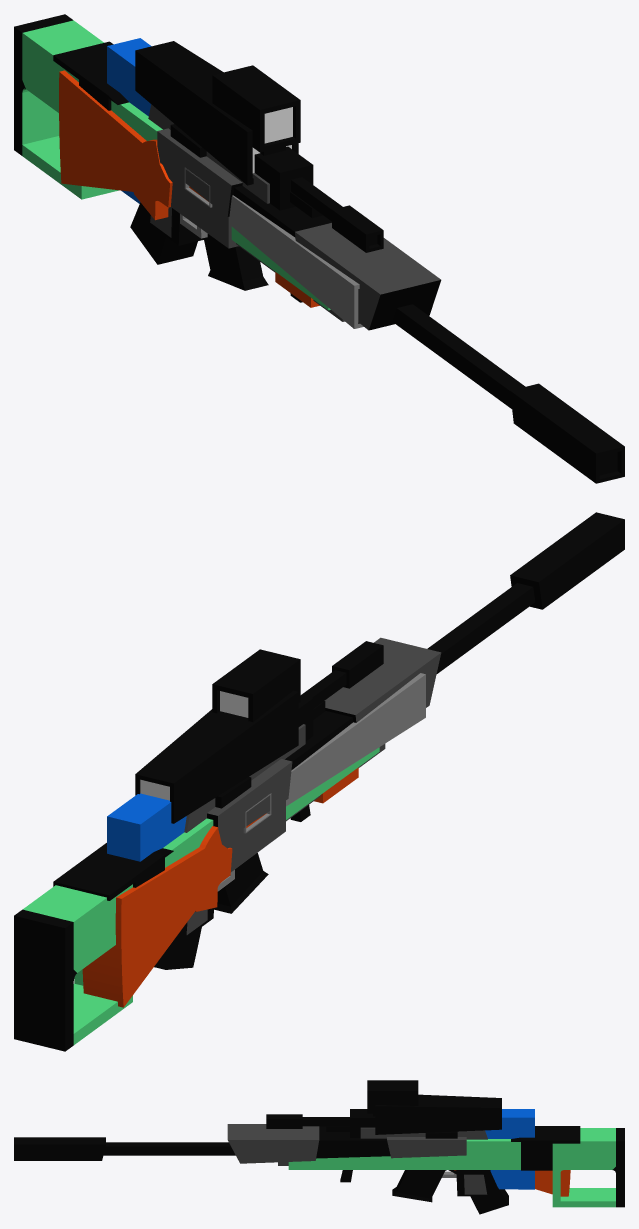
Rendered from guns.glb.
The picture shows the model from 3 angles, top to bottom: view 1: azimuth 30°, elevation 25°; view 2: azimuth 150°, elevation 25°; view 3: azimuth 270°, elevation 25°; orthographic projection. The views are drawn at different scales.
Visible parts, largest first — view 1: Cube, shotgun1, AR1, pistol1; view 2: Cube, shotgun1, AR1, pistol1; view 3: Cube, AR1, pistol1, shotgun1.
Part boxes in pixels (x1,y1,x2,y2): Cube: (14, 14, 624, 483); shotgun1: (59, 70, 363, 328); AR1: (107, 38, 383, 302); pistol1: (148, 104, 269, 245); Cube: (14, 512, 624, 1051); shotgun1: (82, 673, 425, 1007); AR1: (107, 641, 383, 913); pistol1: (184, 724, 305, 935); Cube: (14, 1094, 624, 1214); AR1: (266, 1080, 534, 1202); pistol1: (360, 1127, 490, 1196); shotgun1: (278, 1162, 570, 1196).
Bounding box in the file's own units: 0.1291 × 0.4328 × 1.93.
